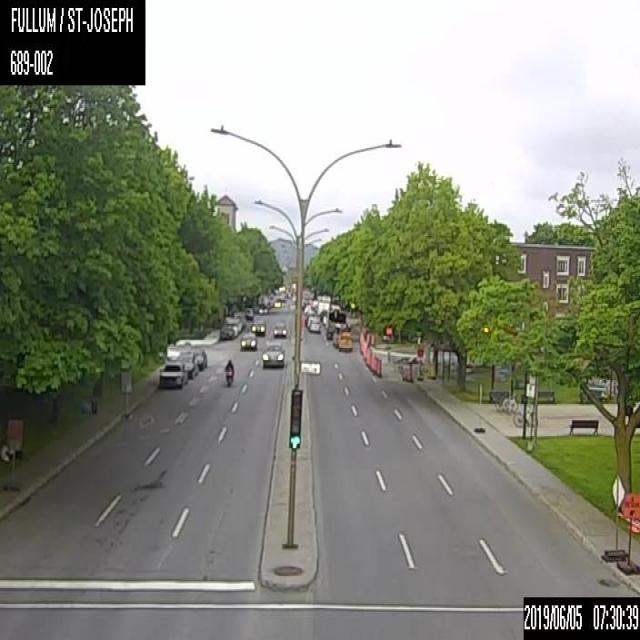construction: (600, 472, 628, 561), (616, 491, 639, 573), (416, 346, 423, 380), (406, 363, 414, 381), (377, 359, 382, 376)
vehicle: (158, 360, 186, 388), (261, 341, 284, 368), (175, 351, 198, 376), (338, 329, 353, 352), (239, 332, 257, 351), (192, 348, 206, 369), (250, 318, 265, 336), (224, 359, 234, 385), (272, 322, 286, 338), (219, 326, 233, 339), (309, 319, 320, 332), (257, 303, 268, 313), (273, 297, 282, 308)
